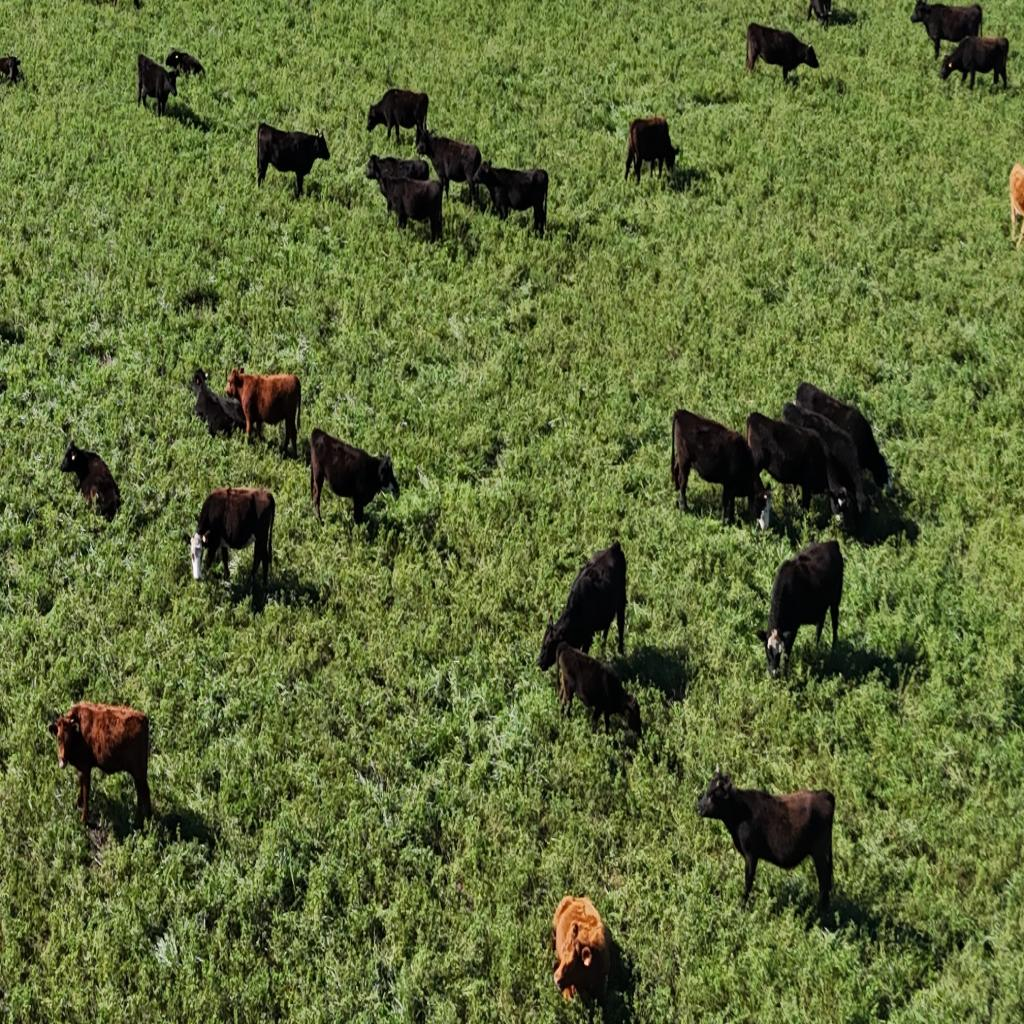cow: (698, 770, 835, 917), (48, 700, 154, 832), (754, 539, 844, 678), (744, 410, 840, 529), (670, 409, 766, 526), (537, 543, 625, 668), (793, 384, 891, 490), (190, 484, 276, 596), (552, 640, 642, 740), (310, 430, 400, 526), (550, 895, 612, 1007), (227, 368, 302, 460), (255, 122, 331, 201), (416, 127, 483, 208), (479, 159, 547, 234), (371, 174, 443, 244), (58, 440, 120, 521), (745, 23, 819, 84), (910, 0, 982, 59), (189, 369, 247, 441), (940, 35, 1010, 92), (366, 86, 430, 147), (623, 117, 678, 184), (365, 154, 432, 198), (136, 53, 179, 118), (166, 49, 204, 79), (0, 55, 24, 87), (807, 0, 832, 28)
